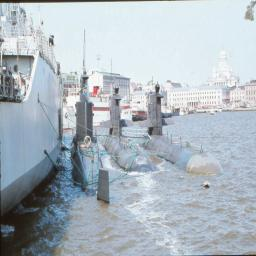submarine: (128, 87, 227, 177), (72, 70, 111, 202), (103, 85, 157, 177)
